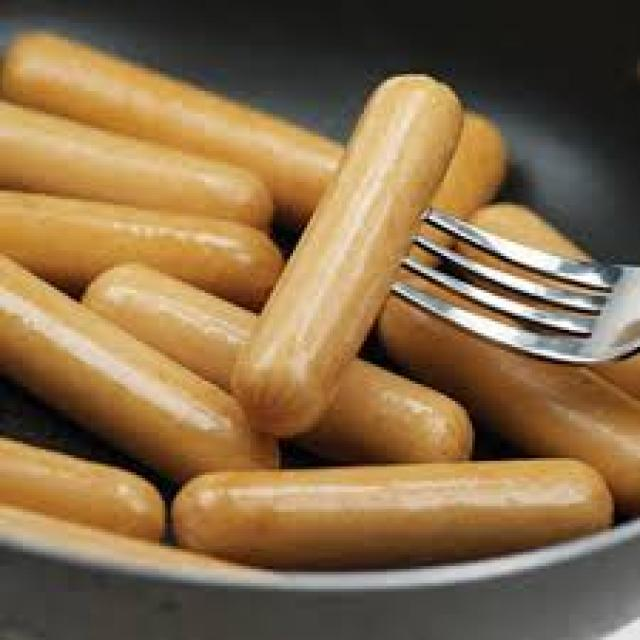Hot Dog: (12, 48, 615, 522)
